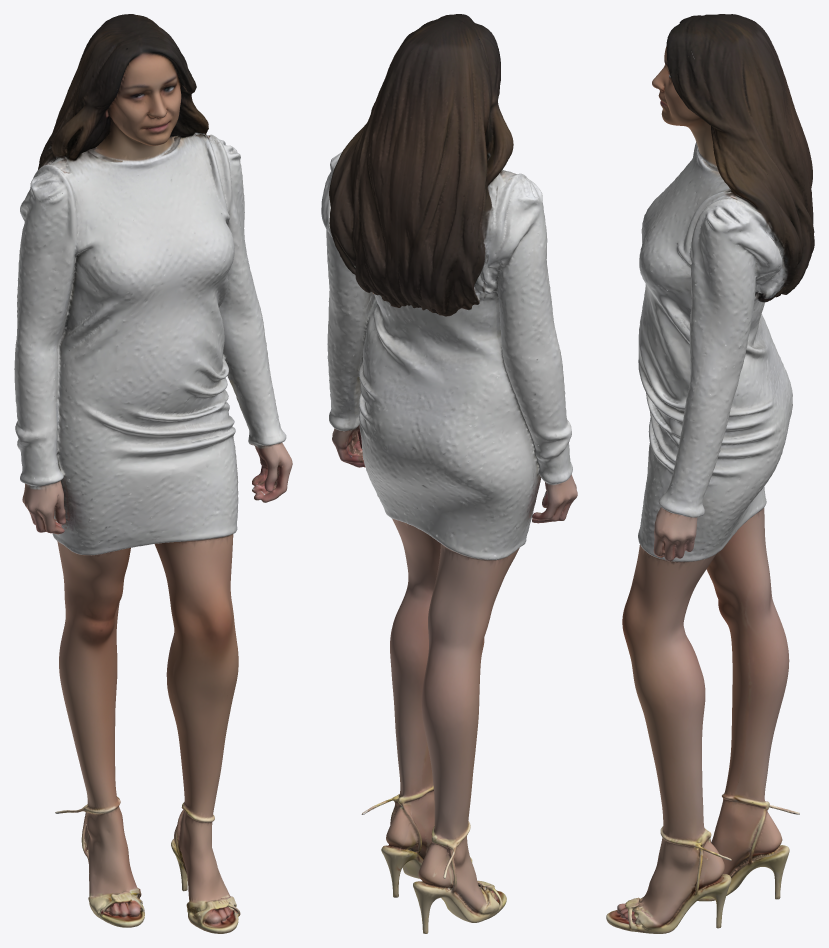
File: morenotriangulo.glb
3 views of the same model, side by side, from view 1: azimuth 30°, elevation 25°; view 2: azimuth 150°, elevation 25°; view 3: azimuth 270°, elevation 25° (orthographic).
Visible parts, largest first — view 1: Mesh_0.001; view 2: Mesh_0.001; view 3: Mesh_0.001.
Part boxes in pixels (left/top/right/bottom): Mesh_0.001: left=14, top=14, right=292, bottom=933; Mesh_0.001: left=321, top=14, right=577, bottom=933; Mesh_0.001: left=606, top=14, right=814, bottom=933.
Bounding box in the file's own units: 0.5104 × 1.7 × 0.3626.
Materials: 1 (1 with a texture image).
